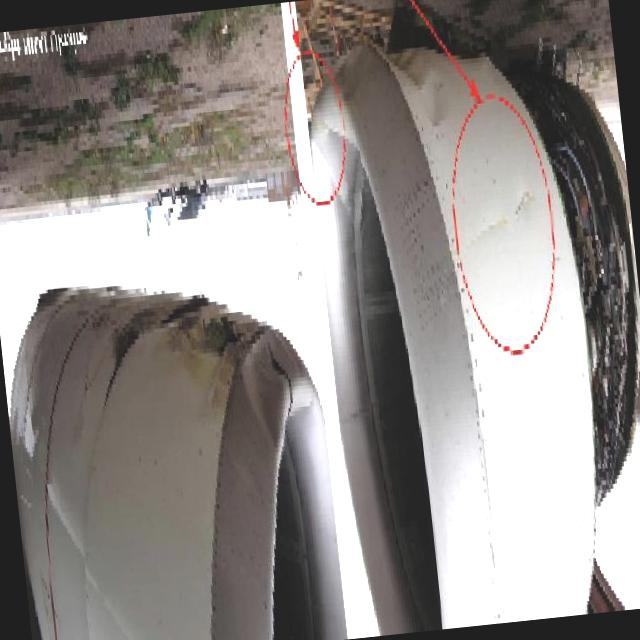crack: (509, 188, 534, 222)
dent: (388, 42, 451, 129)
